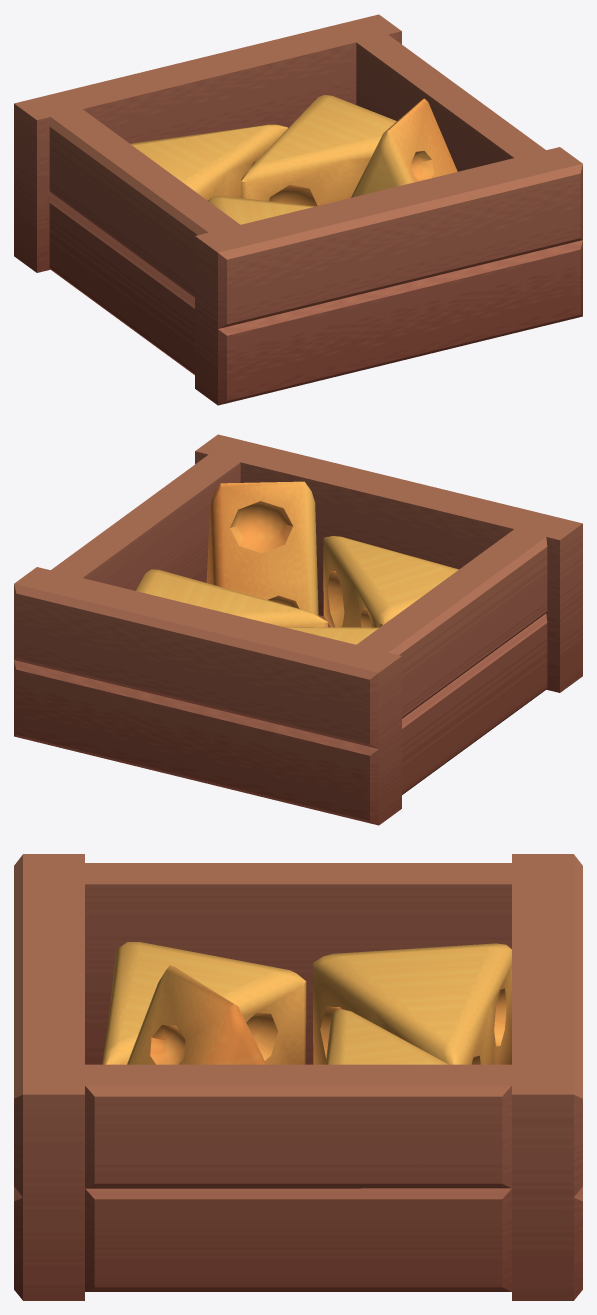
Rendered from crate_cheese.gltf.
3 views of the same model, one above another, from view 1: azimuth 30°, elevation 25°; view 2: azimuth 150°, elevation 25°; view 3: azimuth 270°, elevation 25° (orthographic). The views are drawn at different scales.
Visible parts, largest first — view 1: crate_cheese; view 2: crate_cheese; view 3: crate_cheese.
Boxes of the visible parts, x1=… form: crate_cheese: x1=14, y1=14, x2=582, y2=405; crate_cheese: x1=14, y1=434, x2=582, y2=825; crate_cheese: x1=14, y1=854, x2=582, y2=1300.
Bounding box in the file's own units: 2 × 0.946 × 2.
Materials: 1 (1 with a texture image).
